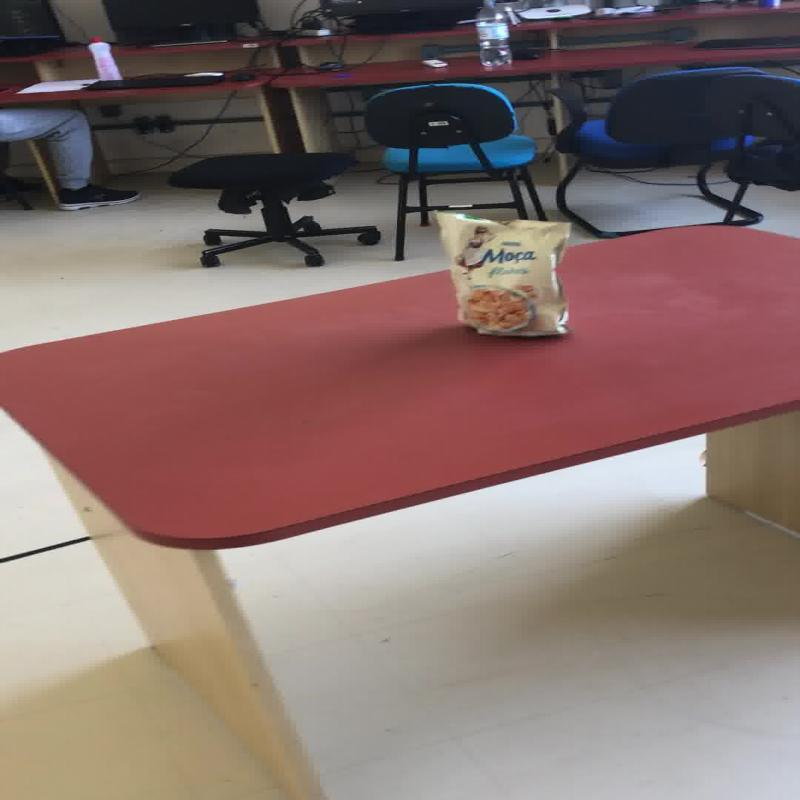corn flakes: (430, 210, 571, 336), (464, 286, 532, 332)
